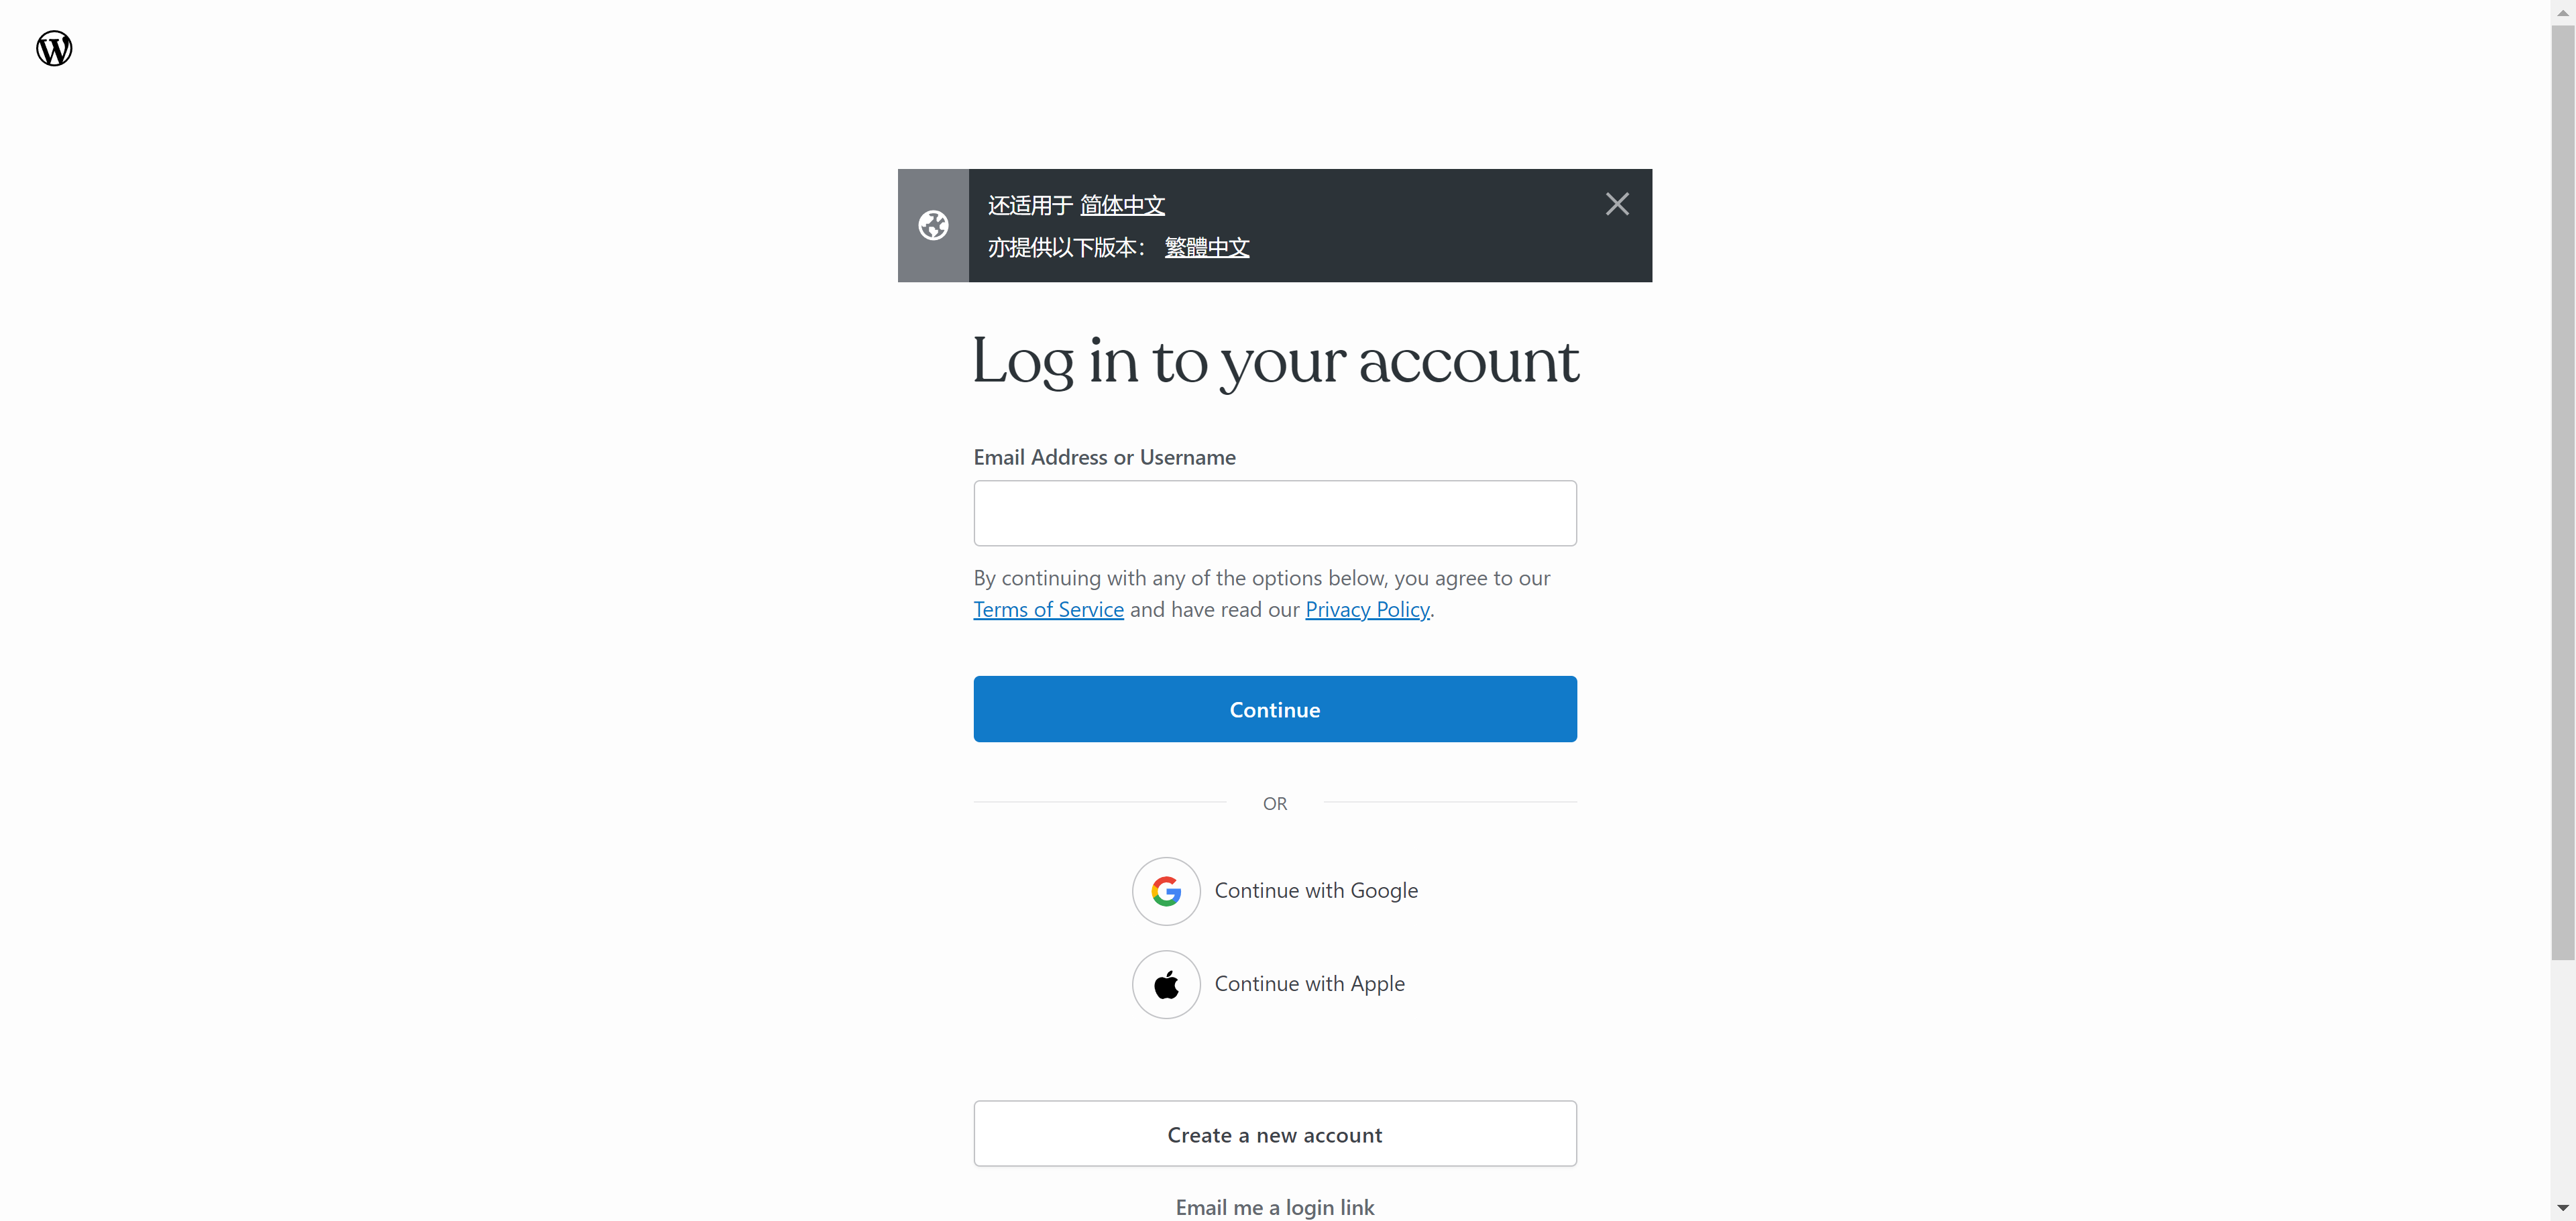login_button: (974, 677, 1577, 743)
login_form: (964, 439, 1589, 749)
